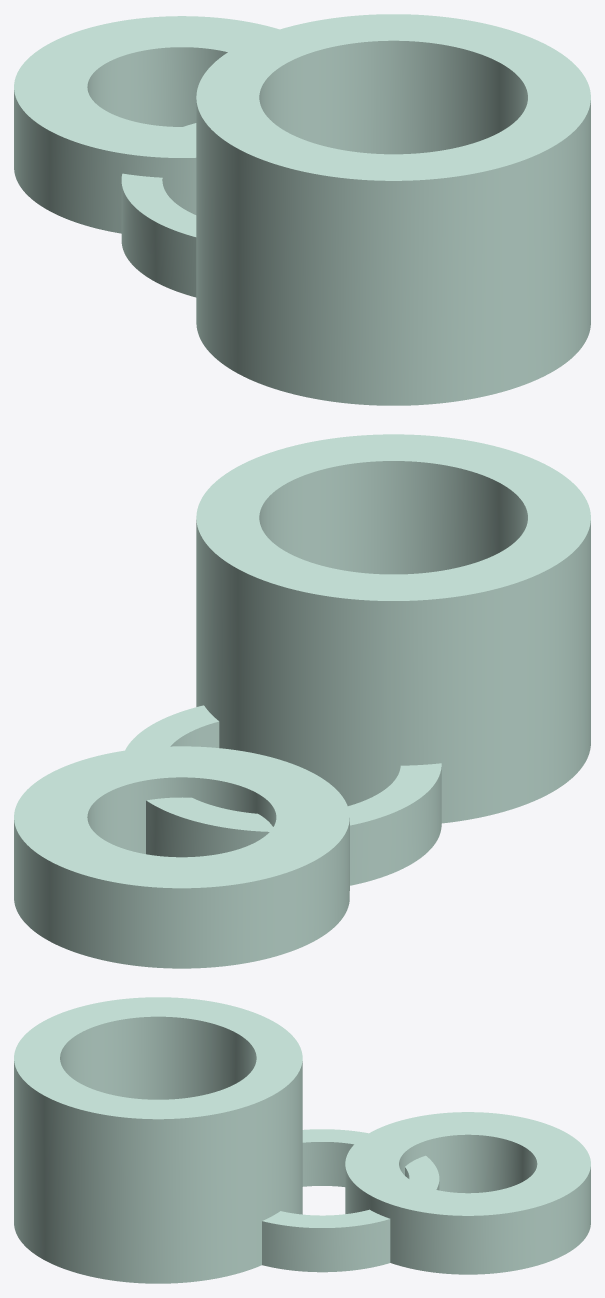
The picture shows the model from 3 angles, top to bottom: view 1: azimuth 30°, elevation 25°; view 2: azimuth 150°, elevation 25°; view 3: azimuth 270°, elevation 25°; orthographic projection. The views are drawn at different scales.
Visible parts, largest first — view 1: Renderer Node; view 2: Renderer Node; view 3: Renderer Node.
Part boxes in pixels (<box>): Renderer Node: <box>14,14,590,405</box>; Renderer Node: <box>14,434,590,968</box>; Renderer Node: <box>14,997,590,1283</box>.
Size of the model in its own units: 0.6957 by 0.4375 by 1.39.
